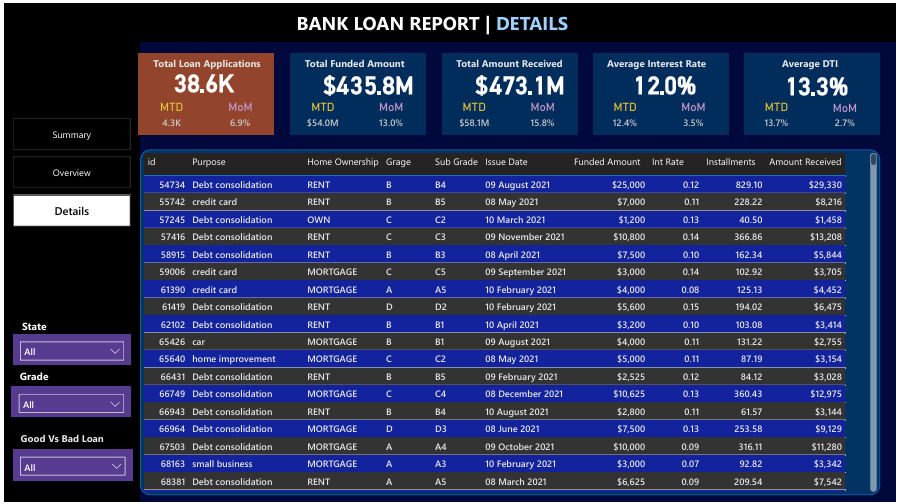

The dashboard page shown, as its layout file describes it:
{"tool":"powerbi","page":{"name":"Details","canvas":[1280,720],"ordinal":2},"visuals":[{"type":"shape","box":[0,55.5,194.2,664.5],"z":0},{"type":"shape","box":[410.2,71.3,193.7,117],"z":0,"group":"g3"},{"type":"shape","box":[626.7,71.3,193.7,117],"z":0,"group":"g4"},{"type":"shape","box":[843.2,71.3,193.7,117],"z":0,"group":"g5"},{"type":"shape","box":[192.3,71.4,193.7,117],"z":0,"group":"g1"},{"type":"shape","box":[1059.7,71.9,193.7,117],"z":0,"group":"g6"},{"type":"shape","box":[0,0,1280.3,55],"z":1000},{"type":"card","fields":{"Values":["bank_loan_data.Total Loan Application"]},"box":[228.8,76.7,113.6,69.9],"z":1000,"group":"g1"},{"type":"card","fields":{"Values":["bank_loan_data.Total Funded Amount"]},"box":[447.1,82,147.9,64.6],"z":1000,"group":"g3"},{"type":"card","fields":{"Values":["bank_loan_data.Total Amount Received"]},"box":[663.6,82,147.9,64.6],"z":1000,"group":"g4"},{"type":"card","fields":{"Values":["bank_loan_data.Avg Interest Rate"]},"box":[872.1,82.5,147.9,64.6],"z":1000,"group":"g5"},{"type":"card","fields":{"Values":["bank_loan_data.Avg DTI"]},"box":[1088.6,83.1,147.9,64.6],"z":1000,"group":"g6"},{"type":"textbox","box":[204.7,71.3,197.8,40.3],"z":2000,"group":"g1"},{"type":"textbox","box":[420.9,71.3,197.8,40.3],"z":2000,"group":"g3"},{"type":"textbox","box":[637.4,71.3,197.8,40.3],"z":2000,"group":"g4"},{"type":"textbox","box":[853.9,71.3,197.8,40.3],"z":2000,"group":"g5"},{"type":"textbox","box":[1070.1,71.3,169.4,40.3],"z":2000,"group":"g6"},{"type":"textbox","box":[12.1,447.4,95.3,31.4],"z":2000,"group":"g7"},{"type":"textbox","box":[12.1,517.4,83.2,31.4],"z":2000},{"type":"card","title":"MTD","fields":{"Values":["bank_loan_data.MTD Loan Applications"]},"box":[204.7,137.2,69.5,51.1],"z":3000,"group":"g1"},{"type":"card","title":"MTD","fields":{"Values":["bank_loan_data.MTD Funded Applications"]},"box":[420.9,137.2,69.5,51.1],"z":3000,"group":"g3"},{"type":"card","title":"MTD","fields":{"Values":["bank_loan_data.MTD Total Amount Received"]},"box":[637.4,137.2,69.5,51.1],"z":3000,"group":"g4"},{"type":"card","title":"MTD","fields":{"Values":["bank_loan_data.MTD Average Interest Rate"]},"box":[853.9,137.2,69.5,51.1],"z":3000,"group":"g5"},{"type":"card","title":"MTD","fields":{"Values":["bank_loan_data.MTD Average DTI"]},"box":[1070.4,137.8,69.5,51.1],"z":3000,"group":"g6"},{"type":"textbox","box":[9.6,607.8,156.8,31.4],"z":3000},{"type":"group","id":"g1","title":"Group 2","box":[192.3,71.3,210.2,117.1],"z":3005,"group":"g2"},{"type":"card","title":"MoM","fields":{"Values":["bank_loan_data.MoM Loan Applications"]},"box":[303,138.2,69.5,49.8],"z":4000,"group":"g1"},{"type":"card","title":"MoM","fields":{"Values":["bank_loan_data.MoM Total Funded Amount"]},"box":[519.1,138.2,69.5,49.8],"z":4000,"group":"g3"},{"type":"card","title":"MoM","fields":{"Values":["bank_loan_data.MoM Total Amount Received"]},"box":[735.6,138.2,69.5,49.8],"z":4000,"group":"g4"},{"type":"card","title":"MoM","fields":{"Values":["bank_loan_data.MoM Average Interest Rate"]},"box":[952.1,138.2,69.5,49.8],"z":4000,"group":"g5"},{"type":"card","title":"MoM","fields":{"Values":["bank_loan_data.MoM Average DTI"]},"box":[1168.6,138.9,69.5,49.8],"z":4000,"group":"g6"},{"type":"shape","box":[194.2,208.6,1060.1,495.7],"z":4000},{"type":"textbox","box":[412.9,4,520.4,45.7],"z":5000},{"type":"group","id":"g2","title":"Group 1","box":[192.3,71.3,210.2,117.1],"z":6000},{"type":"group","id":"g3","title":"Group 2","box":[410.2,71.3,208.4,117],"z":7000},{"type":"group","id":"g4","title":"Group 2","box":[626.7,71.3,208.4,117],"z":8000},{"type":"group","id":"g5","title":"Group 2","box":[843.2,71.3,208.4,117],"z":9000},{"type":"group","id":"g6","title":"Group 2","box":[1059.7,71.3,193.7,117],"z":10000},{"type":"slicer","fields":{"Values":["bank_loan_data.address_state"]},"box":[12.1,474,168.8,43.4],"z":11000},{"type":"slicer","fields":{"Values":["bank_loan_data.grade"]},"box":[9.6,548.7,171.3,44.6],"z":12000},{"type":"slicer","fields":{"Values":["bank_loan_data.Good Vs Bad Loan"]},"box":[12.1,639.2,171.3,44.6],"z":13000},{"type":"group","id":"g7","title":"Group 2","box":[12.1,447.4,95.3,31.4],"z":14000},{"type":"tableEx","fields":{"Values":["bank_loan_data.id","bank_loan_data.purpose","bank_loan_data.home_ownership","bank_loan_data.grade","bank_loan_data.sub_grade","bank_loan_data.issue_date","bank_loan_data.Total Funded Amount","Sum(bank_loan_data.int_rate)","Sum(bank_loan_data.installment)","bank_loan_data.Total Amount Received"]},"box":[194.2,208.6,1060.1,495.7],"z":15000},{"type":"pageNavigator","box":[12.1,164,168.8,158],"z":16000}]}

Visuals, with their boxes in screenshot pixels (x1, y1, x2, y2), scaled from the page's 1280x720 canvas onto the 898x504 screenshot:
shape: {"left": 0, "top": 39, "right": 136, "bottom": 503}
shape: {"left": 288, "top": 50, "right": 424, "bottom": 132}
shape: {"left": 440, "top": 50, "right": 576, "bottom": 132}
shape: {"left": 592, "top": 50, "right": 727, "bottom": 132}
shape: {"left": 135, "top": 50, "right": 271, "bottom": 132}
shape: {"left": 743, "top": 50, "right": 879, "bottom": 132}
shape: {"left": 0, "top": 0, "right": 897, "bottom": 38}
card - bank_loan_data.Total Loan Application: {"left": 161, "top": 54, "right": 240, "bottom": 103}
card - bank_loan_data.Total Funded Amount: {"left": 314, "top": 57, "right": 417, "bottom": 103}
card - bank_loan_data.Total Amount Received: {"left": 466, "top": 57, "right": 569, "bottom": 103}
card - bank_loan_data.Avg Interest Rate: {"left": 612, "top": 58, "right": 716, "bottom": 103}
card - bank_loan_data.Avg DTI: {"left": 764, "top": 58, "right": 867, "bottom": 103}
textbox: {"left": 144, "top": 50, "right": 282, "bottom": 78}
textbox: {"left": 295, "top": 50, "right": 434, "bottom": 78}
textbox: {"left": 447, "top": 50, "right": 586, "bottom": 78}
textbox: {"left": 599, "top": 50, "right": 738, "bottom": 78}
textbox: {"left": 751, "top": 50, "right": 870, "bottom": 78}
textbox: {"left": 8, "top": 313, "right": 75, "bottom": 335}
textbox: {"left": 8, "top": 362, "right": 67, "bottom": 384}
"MTD" card: {"left": 144, "top": 96, "right": 192, "bottom": 132}
"MTD" card: {"left": 295, "top": 96, "right": 344, "bottom": 132}
"MTD" card: {"left": 447, "top": 96, "right": 496, "bottom": 132}
"MTD" card: {"left": 599, "top": 96, "right": 648, "bottom": 132}
"MTD" card: {"left": 751, "top": 96, "right": 800, "bottom": 132}
textbox: {"left": 7, "top": 425, "right": 117, "bottom": 447}
"Group 2" group: {"left": 135, "top": 50, "right": 282, "bottom": 132}
"MoM" card: {"left": 213, "top": 97, "right": 261, "bottom": 132}
"MoM" card: {"left": 364, "top": 97, "right": 413, "bottom": 132}
"MoM" card: {"left": 516, "top": 97, "right": 565, "bottom": 132}
"MoM" card: {"left": 668, "top": 97, "right": 717, "bottom": 132}
"MoM" card: {"left": 820, "top": 97, "right": 869, "bottom": 132}
shape: {"left": 136, "top": 146, "right": 880, "bottom": 493}
textbox: {"left": 290, "top": 3, "right": 655, "bottom": 35}
"Group 1" group: {"left": 135, "top": 50, "right": 282, "bottom": 132}
"Group 2" group: {"left": 288, "top": 50, "right": 434, "bottom": 132}
"Group 2" group: {"left": 440, "top": 50, "right": 586, "bottom": 132}
"Group 2" group: {"left": 592, "top": 50, "right": 738, "bottom": 132}
"Group 2" group: {"left": 743, "top": 50, "right": 879, "bottom": 132}
slicer - bank_loan_data.address_state: {"left": 8, "top": 332, "right": 127, "bottom": 362}
slicer - bank_loan_data.grade: {"left": 7, "top": 384, "right": 127, "bottom": 415}
slicer - bank_loan_data.Good Vs Bad Loan: {"left": 8, "top": 447, "right": 129, "bottom": 479}
"Group 2" group: {"left": 8, "top": 313, "right": 75, "bottom": 335}
tableEx - bank_loan_data.id x bank_loan_data.purpose: {"left": 136, "top": 146, "right": 880, "bottom": 493}
pageNavigator: {"left": 8, "top": 115, "right": 127, "bottom": 225}
